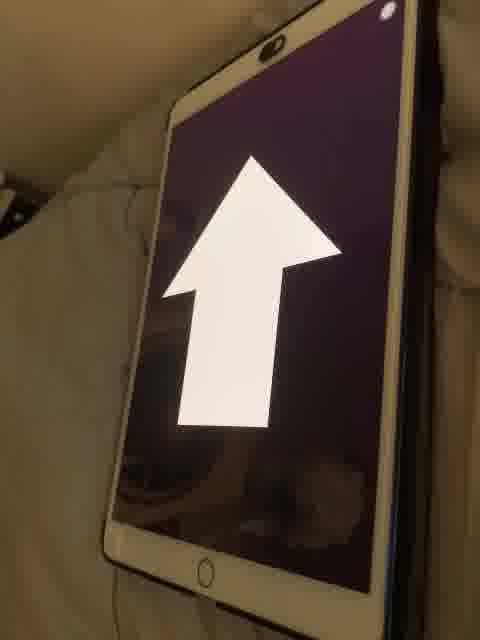up: (154, 150, 344, 436)
